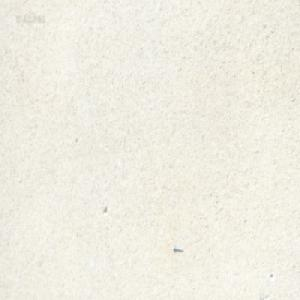Nail: (172, 244, 183, 252)
